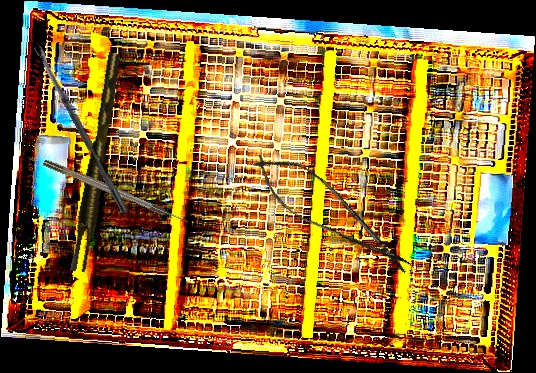Hook Surgical: (42, 157, 190, 227)
Micro Scissor: (243, 141, 422, 286)
Surgical Spoon: (33, 44, 131, 216)
Tissue Forceps: (63, 52, 132, 273)
